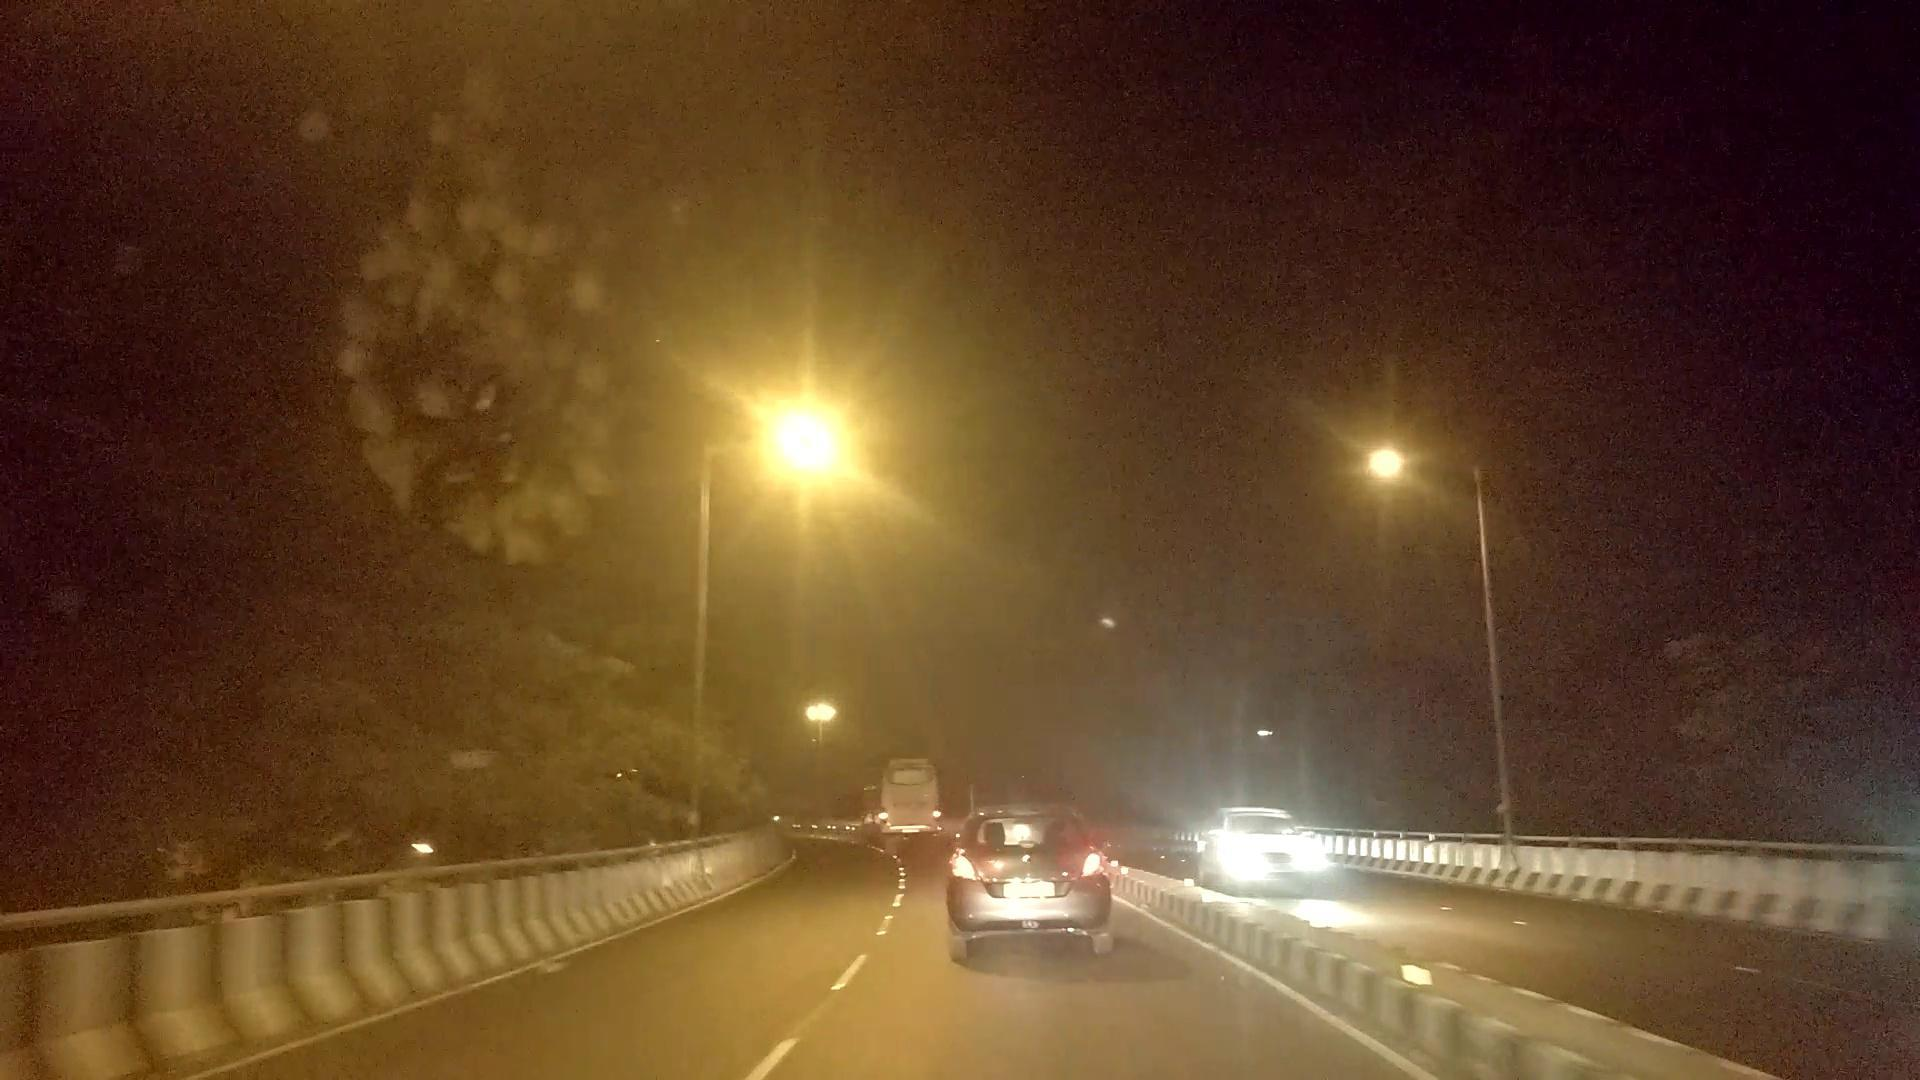on: (589, 182, 1000, 667), (1280, 332, 1495, 611)
